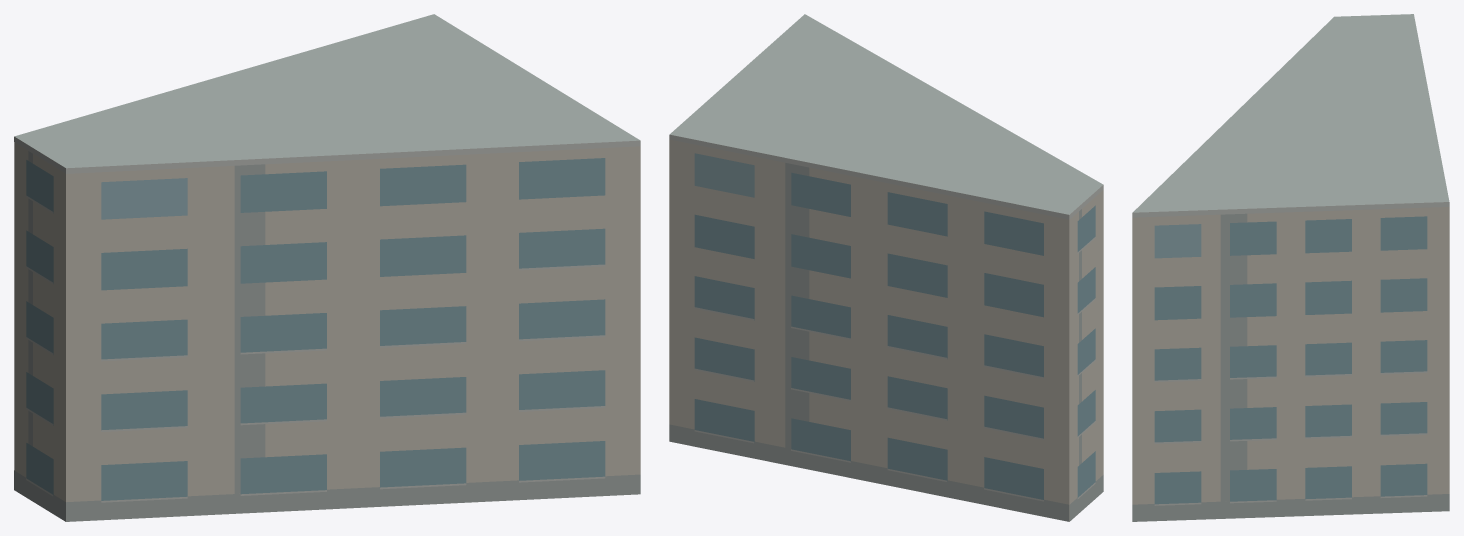
File: residential-1dae6682-14d6-4b3b-a37e-57ccdd634602.glb
3 renders of one model, left to right at view 1: azimuth 30°, elevation 25°; view 2: azimuth 150°, elevation 25°; view 3: azimuth 270°, elevation 25°, orthographic. The views are drawn at different scales.
Visible parts, largest first — view 1: residential-1dae6682-14d6-4b3b-a37e-57ccdd634602.tmp; view 2: residential-1dae6682-14d6-4b3b-a37e-57ccdd634602.tmp; view 3: residential-1dae6682-14d6-4b3b-a37e-57ccdd634602.tmp.
Boxes of the visible parts, box(x1,y1,x2,y2) form: residential-1dae6682-14d6-4b3b-a37e-57ccdd634602.tmp: box(14, 14, 640, 521); residential-1dae6682-14d6-4b3b-a37e-57ccdd634602.tmp: box(669, 14, 1103, 521); residential-1dae6682-14d6-4b3b-a37e-57ccdd634602.tmp: box(1132, 14, 1449, 521).
Bounding box in the file's own units: 21.02 × 15.25 × 14.18.
